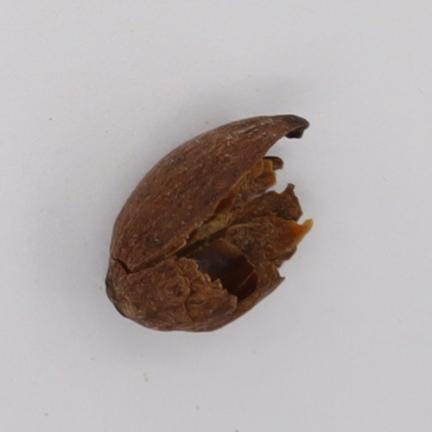full-black: (106, 115, 312, 331)
